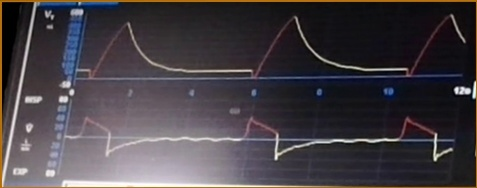Flow: (69, 114, 454, 174)
Leakage Volume: (83, 14, 465, 84)
